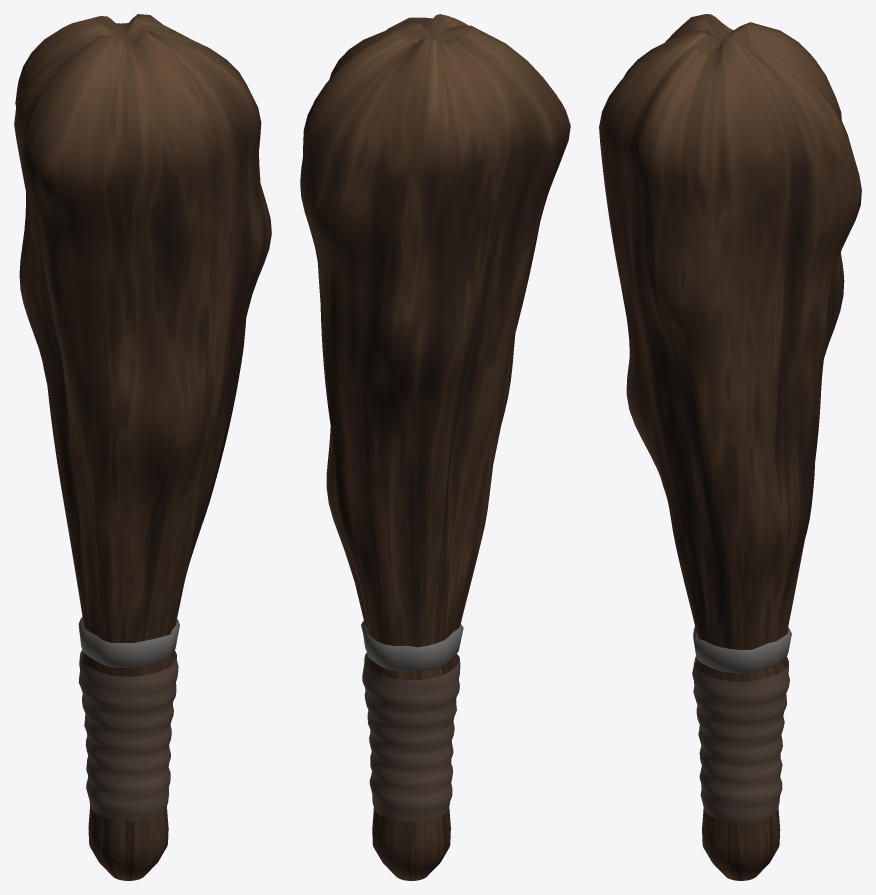
Rendered from Great_Club.glb.
The picture shows the model from 3 angles, left to right: view 1: azimuth 30°, elevation 25°; view 2: azimuth 150°, elevation 25°; view 3: azimuth 270°, elevation 25°; orthographic projection. The views are drawn at different scales.
Parts seen in each view (by area): view 1: GreatClub_Body, GreatClub_LeatherGrip, GreatClub_IronBand; view 2: GreatClub_Body, GreatClub_LeatherGrip, GreatClub_IronBand; view 3: GreatClub_Body, GreatClub_LeatherGrip, GreatClub_IronBand.
Boxes of the visible parts, box(x1,y1,x2,y2) form: GreatClub_Body: box(14, 14, 271, 880); GreatClub_LeatherGrip: box(78, 650, 178, 821); GreatClub_IronBand: box(78, 617, 179, 668); GreatClub_Body: box(300, 14, 570, 880); GreatClub_LeatherGrip: box(362, 653, 460, 822); GreatClub_IronBand: box(361, 620, 463, 671); GreatClub_Body: box(599, 14, 861, 880); GreatClub_LeatherGrip: box(692, 656, 789, 822); GreatClub_IronBand: box(693, 626, 791, 673).
Size of the model in its own units: 0.2948 by 1 by 0.2846.
3 materials, 1 textured.
